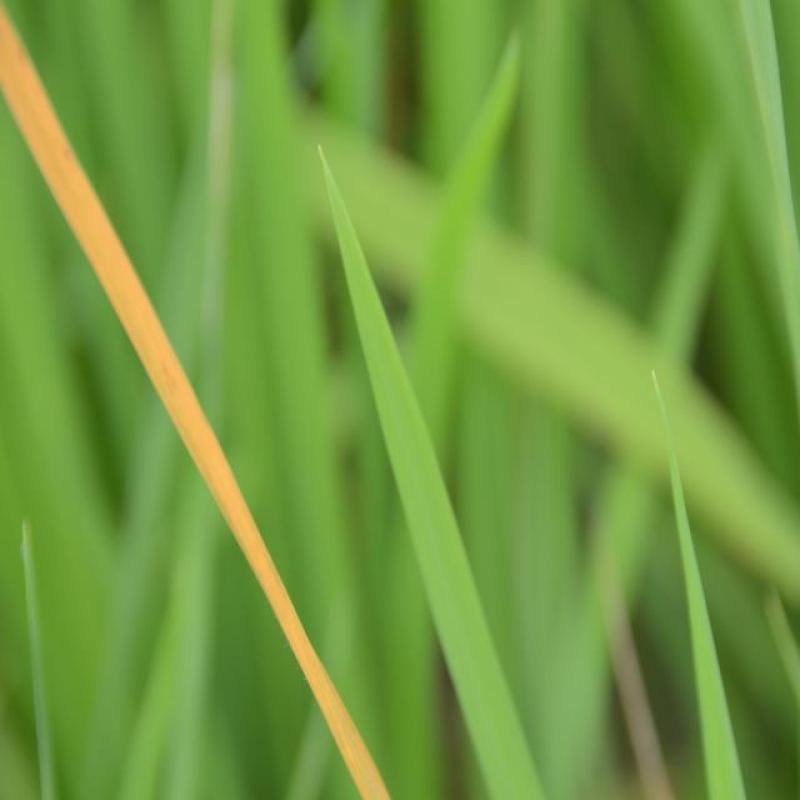Rice Tungro: (20, 85, 372, 800)
